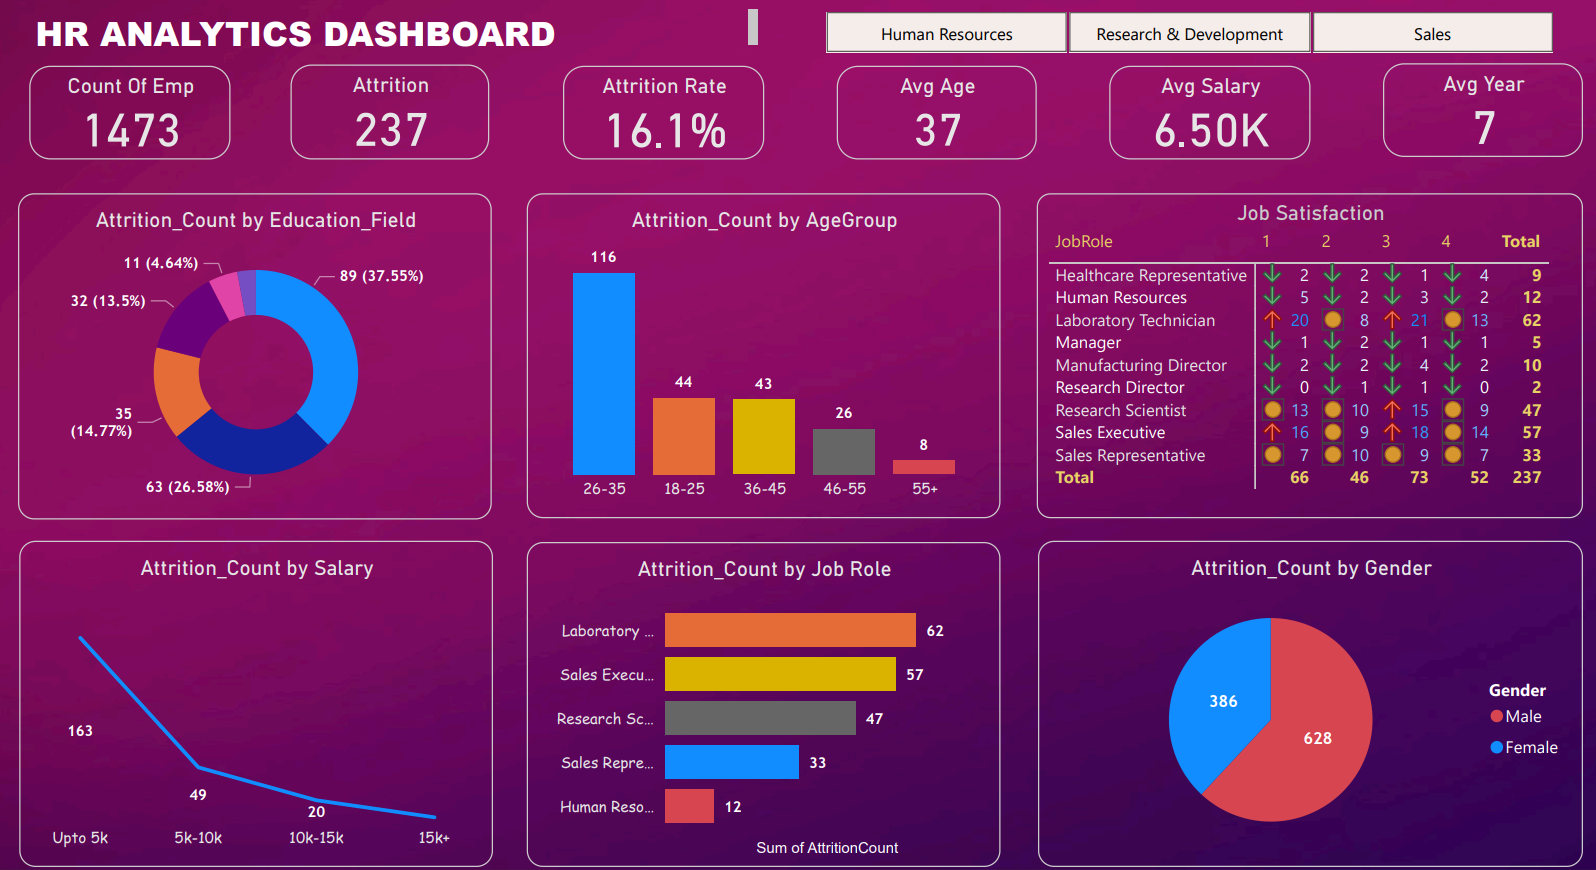

What the dashboard file says about the page in this screenshot:
{"tool":"powerbi","page":{"name":"Page 1","canvas":[1280,720],"ordinal":0},"visuals":[{"type":"card","title":"Count Of Emp","fields":{"Values":["CountNonNull(HR_Analytics.EmpID)"]},"box":[25.3,55.5,160.5,74.8],"z":0},{"type":"card","title":" Attrition","fields":{"Values":["Sum(HR_Analytics.AttritionCount)"]},"box":[234,54.3,159.3,76],"z":1000},{"type":"card","title":"Attrition Rate","fields":{"Values":["HR_Analytics.AttMeas"]},"box":[452.4,55.5,160.5,74.8],"z":2000},{"type":"card","title":"Avg Age","fields":{"Values":["Avg(HR_Analytics.Age)"]},"box":[670.8,55.5,160.5,74.8],"z":3000},{"type":"card","title":"Avg Salary","fields":{"Values":["Avg(HR_Analytics.MonthlyIncome)"]},"box":[889.1,55.5,160.5,74.8],"z":4000},{"type":"card","title":"Avg Year","fields":{"Values":["Avg(HR_Analytics.YearsAtCompany)"]},"box":[1107.5,53.1,160.5,74.8],"z":5000},{"type":"donutChart","title":"Attrition_Count by Education_Field","fields":{"Category":["HR_Analytics.EducationField"],"Y":["Sum(HR_Analytics.AttritionCount)"]},"box":[16.4,157,378.7,260.5],"z":6000},{"type":"clusteredColumnChart","title":"Attrition_Count by AgeGroup","fields":{"Category":["HR_Analytics.AgeGroup"],"Y":["Sum(HR_Analytics.AttritionCount)"]},"box":[423.5,156.8,378.8,260.6],"z":7000},{"type":"pivotTable","title":"Job Satisfaction","fields":{"Rows":["HR_Analytics.JobRole"],"Values":["Sum(HR_Analytics.AttritionCount)"],"Columns":["HR_Analytics.JobSatisfaction"]},"box":[831,156.8,436.6,260.5],"z":8000},{"type":"stackedAreaChart","title":"Attrition_Count by Salary","fields":{"Category":["HR_Analytics.SalarySlab"],"Y":["Sum(HR_Analytics.AttritionCount)"]},"box":[16.9,435.4,378.7,260.5],"z":9000},{"type":"barChart","title":"Attrition_Count by Job Role","fields":{"Category":["HR_Analytics.JobRole"],"Y":["Sum(HR_Analytics.AttritionCount)"]},"box":[423.5,435.5,378.8,260.6],"z":10000},{"type":"pieChart","title":"Attrition_Count by Gender","fields":{"Category":["HR_Analytics.Gender"],"Y":["CountNonNull(HR_Analytics.Attrition)"]},"box":[831.6,435,436.4,260.7],"z":11000},{"type":"slicer","fields":{"Values":["HR_Analytics.Department"]},"box":[637,4.8,631,45.8],"z":12000},{"type":"textbox","box":[25.3,4.8,587.5,42.2],"z":12001}]}

Visuals, with their boxes in screenshot pixels (x1, y1, x2, y2):
"Count Of Emp" card: bbox=[35, 64, 233, 157]
" Attrition" card: bbox=[293, 63, 489, 157]
"Attrition Rate" card: bbox=[562, 64, 760, 157]
"Avg Age" card: bbox=[832, 64, 1030, 157]
"Avg Salary" card: bbox=[1101, 64, 1299, 157]
"Avg Year" card: bbox=[1370, 61, 1568, 154]
"Attrition_Count by Education_Field" donutChart: bbox=[24, 190, 492, 511]
"Attrition_Count by AgeGroup" clusteredColumnChart: bbox=[527, 189, 994, 511]
"Job Satisfaction" pivotTable: bbox=[1029, 189, 1568, 511]
"Attrition_Count by Salary" stackedAreaChart: bbox=[25, 533, 492, 854]
"Attrition_Count by Job Role" barChart: bbox=[527, 533, 994, 854]
"Attrition_Count by Gender" pieChart: bbox=[1030, 532, 1568, 854]
slicer - HR_Analytics.Department: bbox=[790, 2, 1568, 58]
textbox: bbox=[35, 2, 760, 54]
